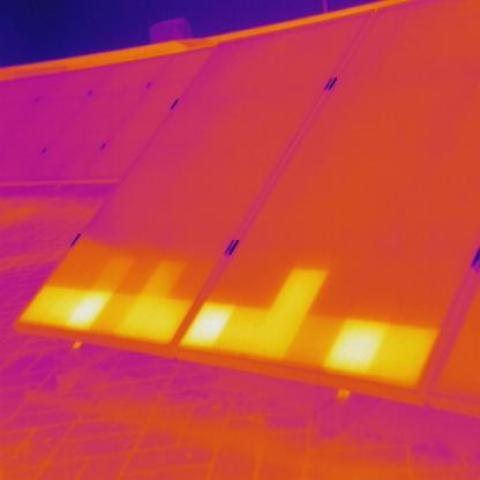fault: (334, 327, 383, 369), (190, 309, 224, 345), (73, 294, 106, 326)
